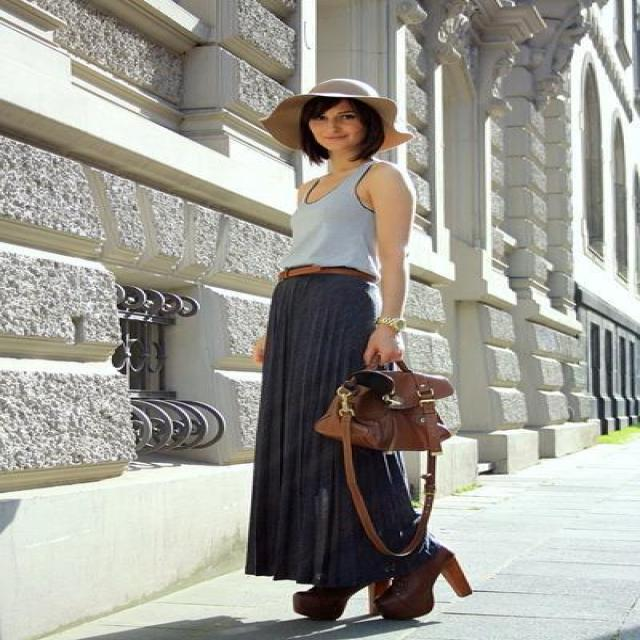bag: (314, 350, 452, 476)
hat: (262, 67, 378, 140)
shirt: (267, 192, 381, 276)
shoe: (293, 544, 470, 626)
skirt: (245, 273, 430, 598)
